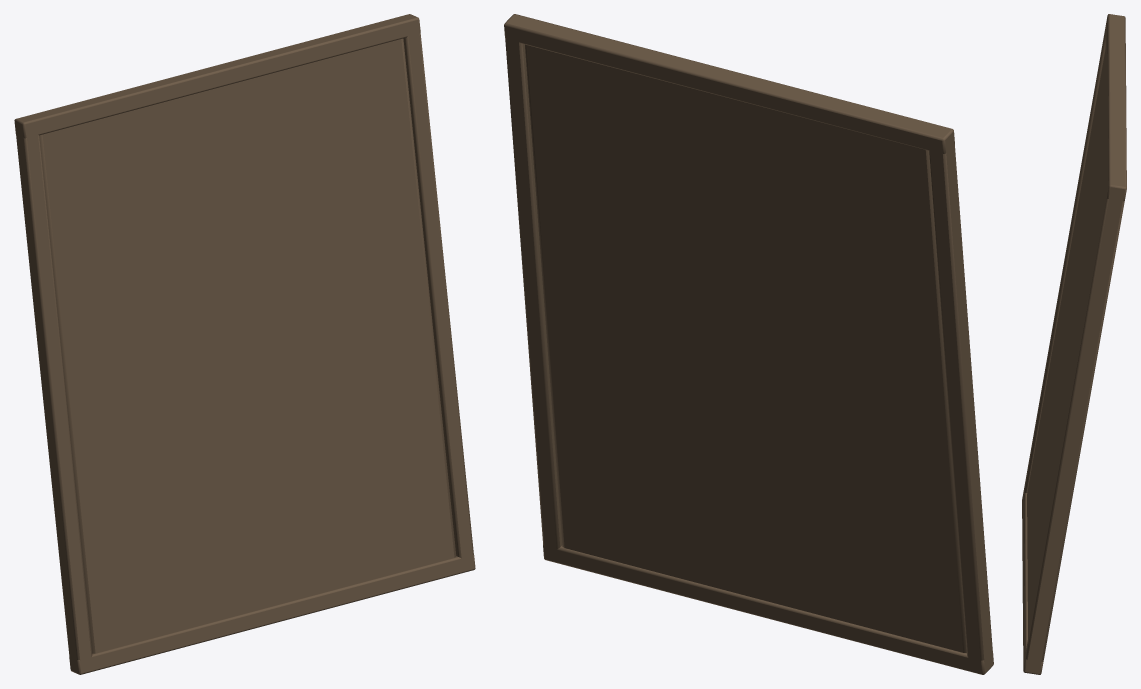
The model's file is SM_ObituaryBoard.glb.
3 views of the same model, side by side, from view 1: azimuth 30°, elevation 25°; view 2: azimuth 150°, elevation 25°; view 3: azimuth 270°, elevation 25° (orthographic). The views are drawn at different scales.
Parts seen in each view (by area): view 1: SM_ObituaryBoard; view 2: SM_ObituaryBoard; view 3: SM_ObituaryBoard.
Boxes of the visible parts, <box> form: SM_ObituaryBoard: <box>14,14,475,674</box>; SM_ObituaryBoard: <box>504,14,993,674</box>; SM_ObituaryBoard: <box>1022,14,1126,674</box>.
Bounding box in the file's own units: 0.6663 × 0.8306 × 0.1602.
